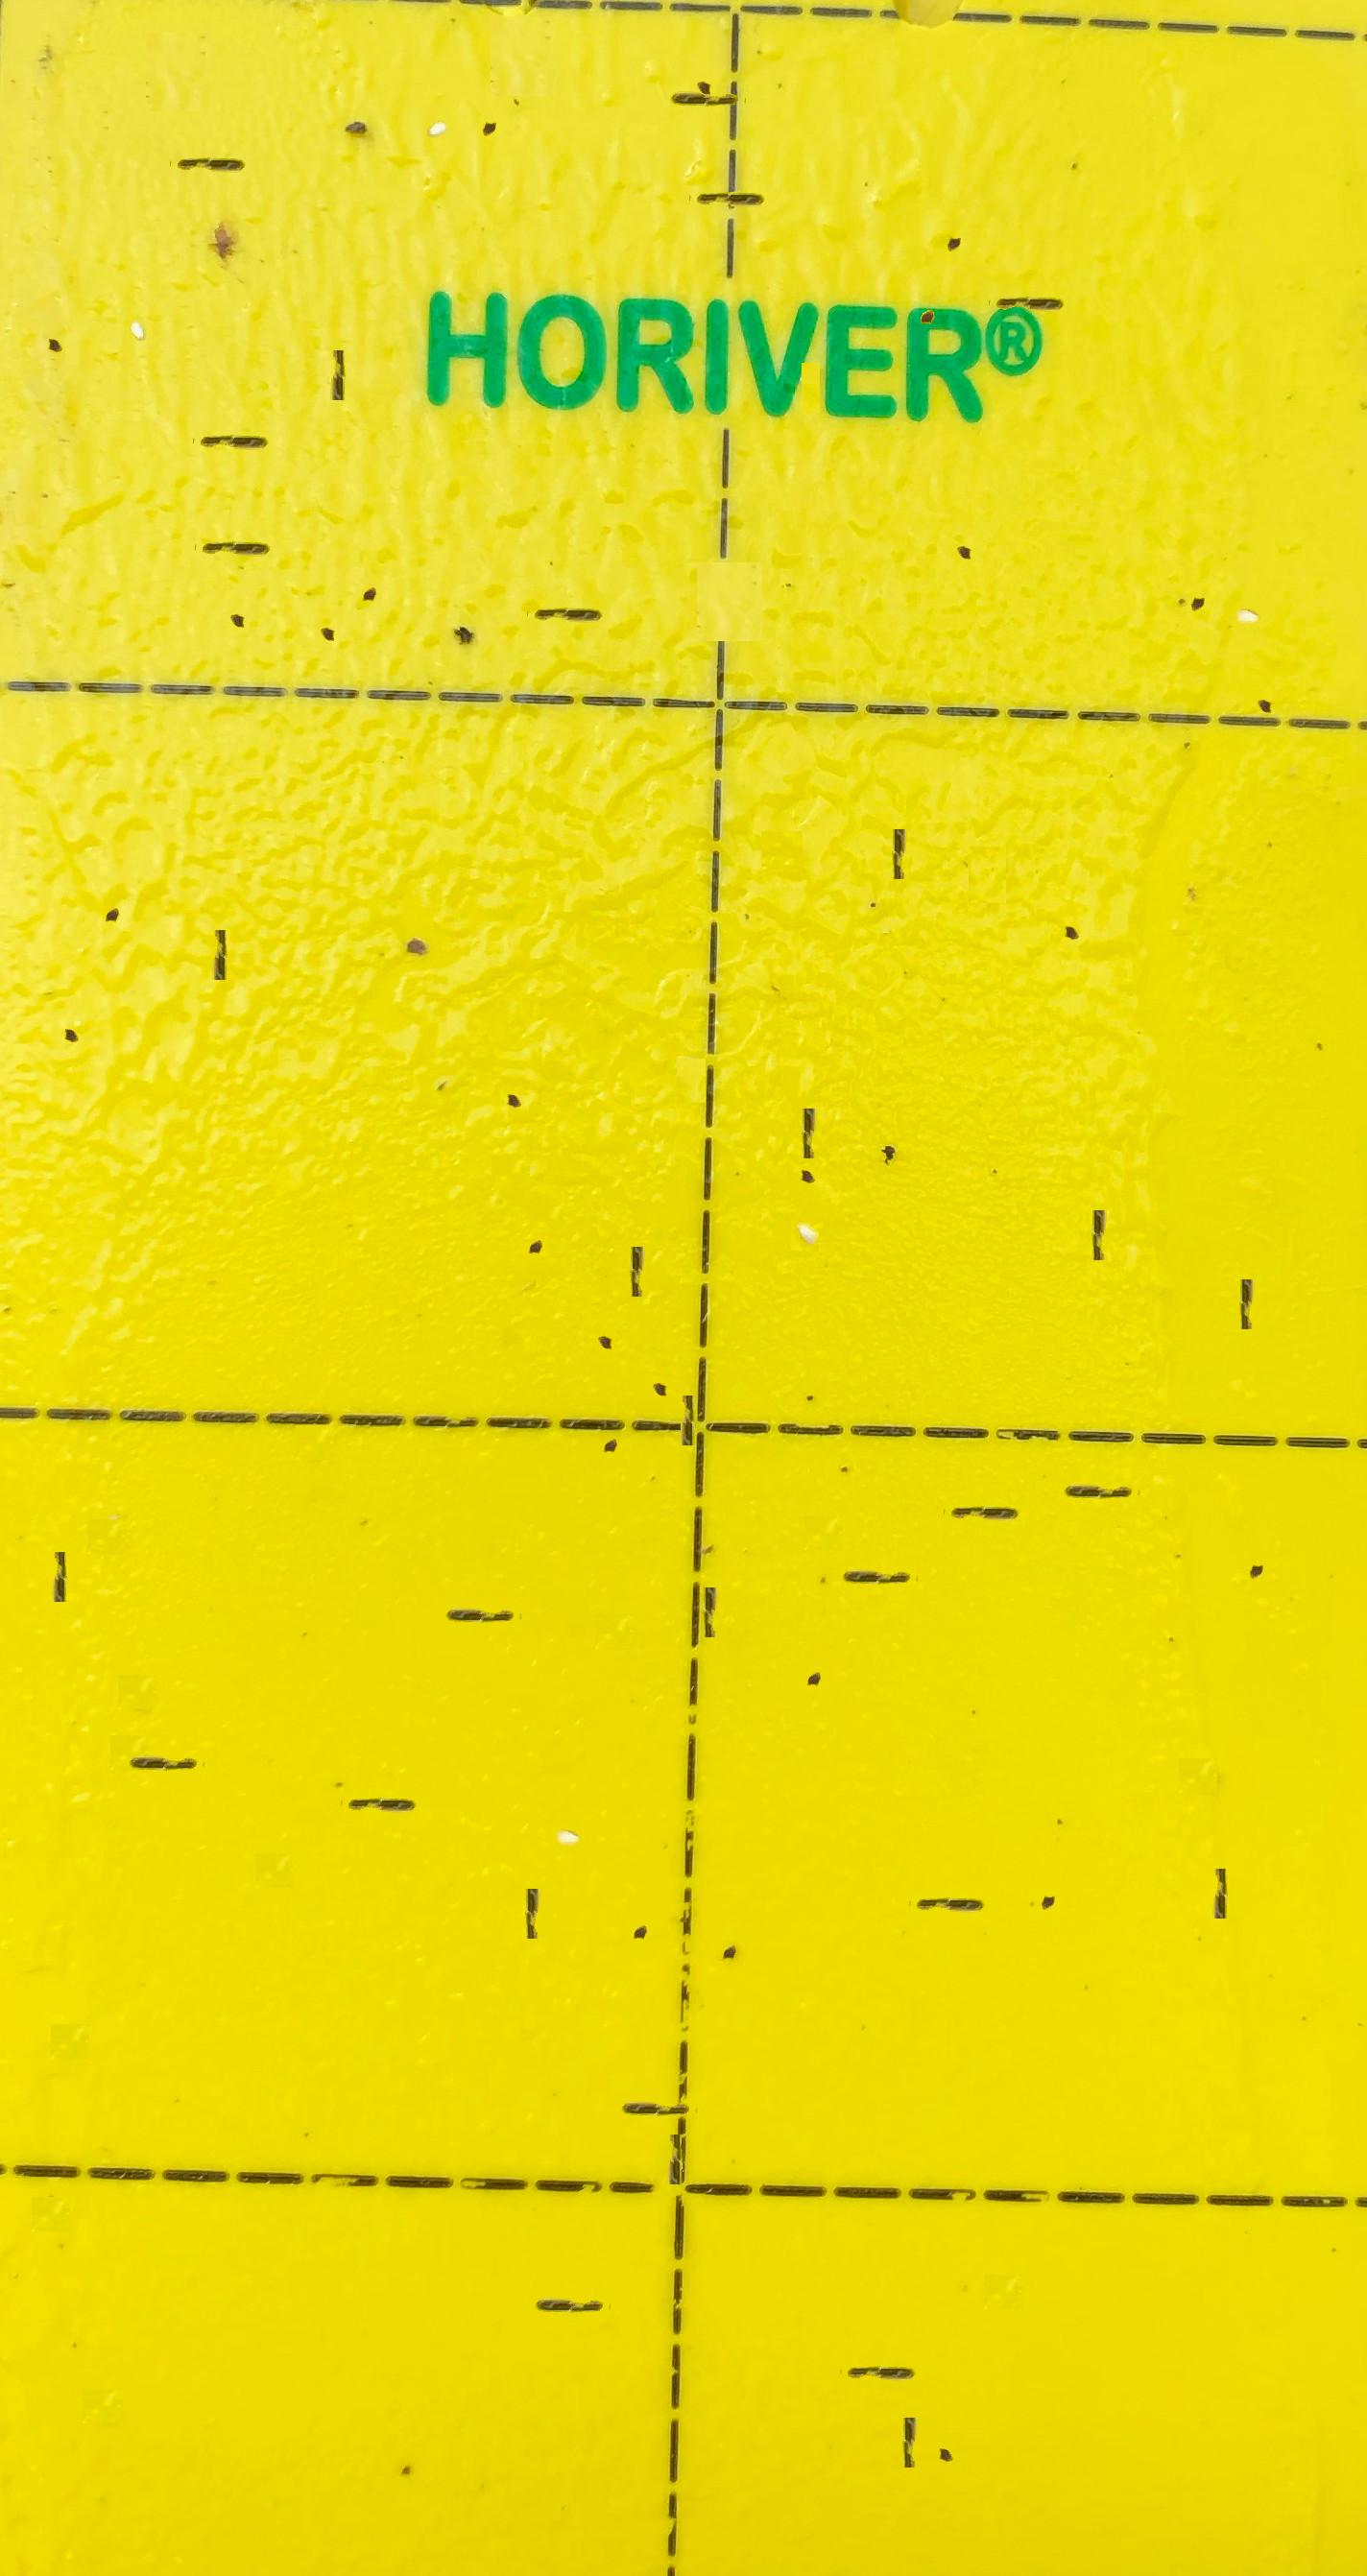white_fly: (418, 58, 460, 106), (118, 257, 159, 305), (787, 1170, 830, 1213), (545, 1779, 588, 1816), (1226, 559, 1266, 596)
